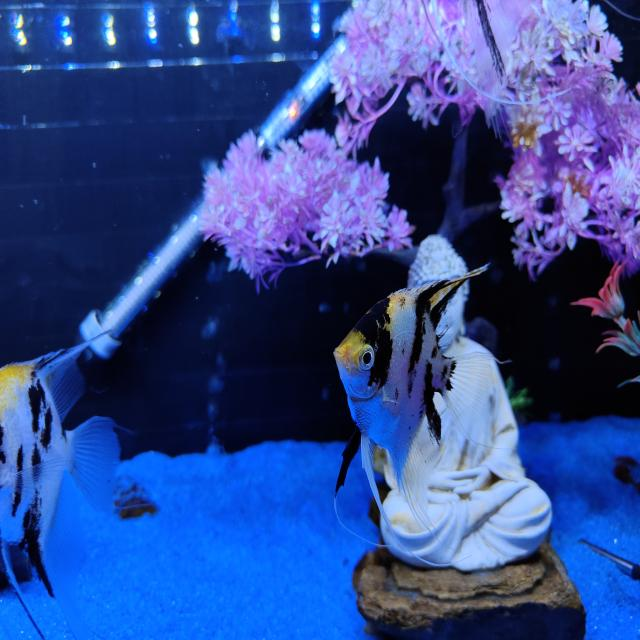Fish: (334, 267, 492, 531), (0, 343, 119, 639)
